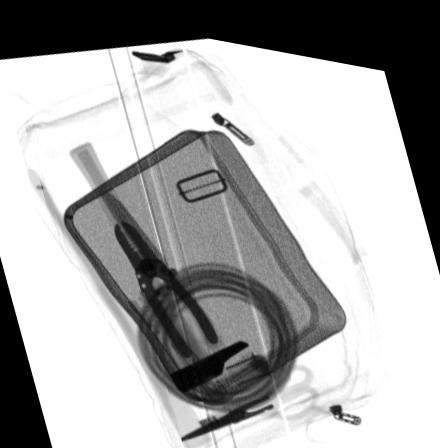Hammer: (67, 136, 248, 387)
Knife: (95, 182, 223, 340)
Pliers: (113, 213, 217, 352)
Scissors: (180, 349, 323, 433)
